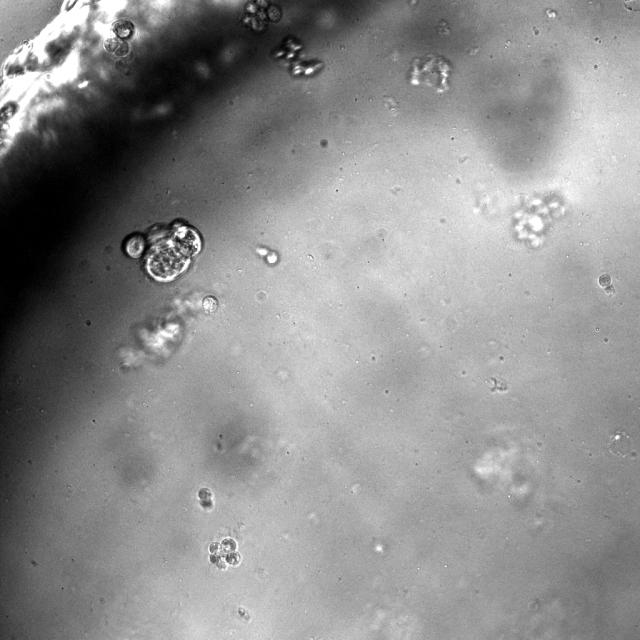organoid: (119, 291, 219, 369), (123, 219, 203, 283), (512, 194, 565, 248), (271, 35, 324, 77), (103, 18, 138, 75), (408, 53, 452, 93), (240, 0, 282, 33), (209, 537, 241, 567), (255, 245, 279, 266), (198, 487, 214, 510)
